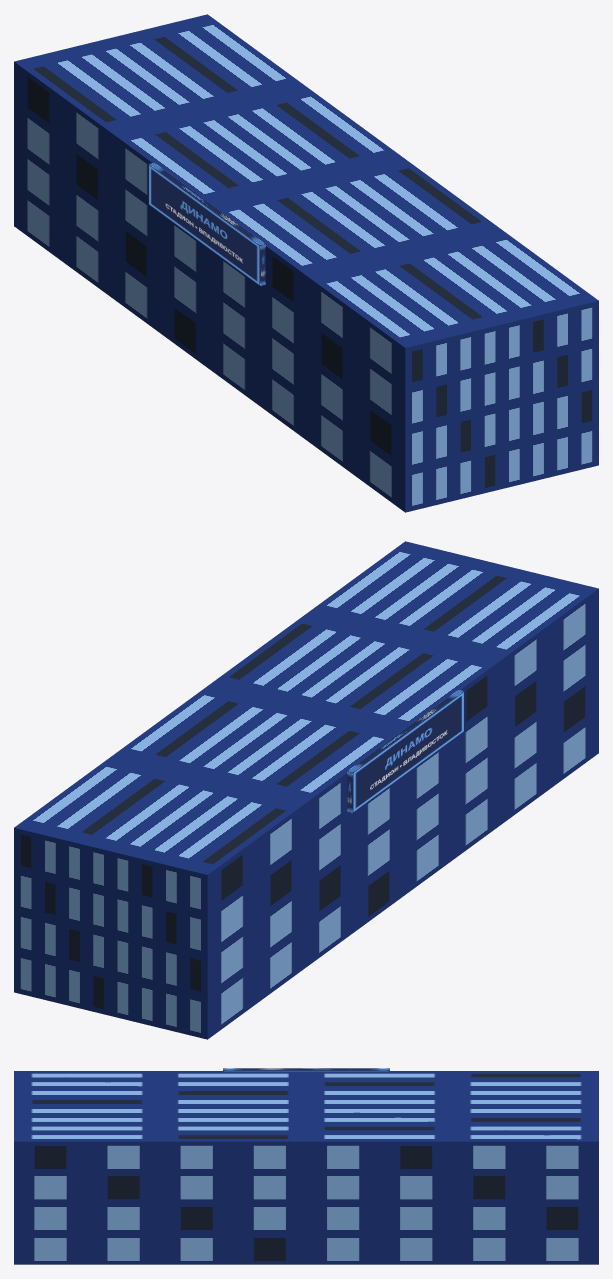
Rendered from dynamo_stadium.glb.
The picture shows the model from 3 angles, top to bottom: view 1: azimuth 30°, elevation 25°; view 2: azimuth 150°, elevation 25°; view 3: azimuth 270°, elevation 25°; orthographic projection. The views are drawn at different scales.
Visible parts, largest first — view 1: mainStand, sign; view 2: mainStand, sign; view 3: mainStand, sign.
Boxes of the visible parts, x1,y1,x2,y2 form: mainStand: [14, 14, 598, 512]; sign: [148, 162, 266, 286]; mainStand: [14, 541, 598, 1039]; sign: [346, 689, 464, 813]; mainStand: [14, 1071, 598, 1264]; sign: [223, 1068, 389, 1071].
Bounding box in the file's own units: 16.45 × 13.1 × 56.
Materials: 2 (2 with a texture image).
